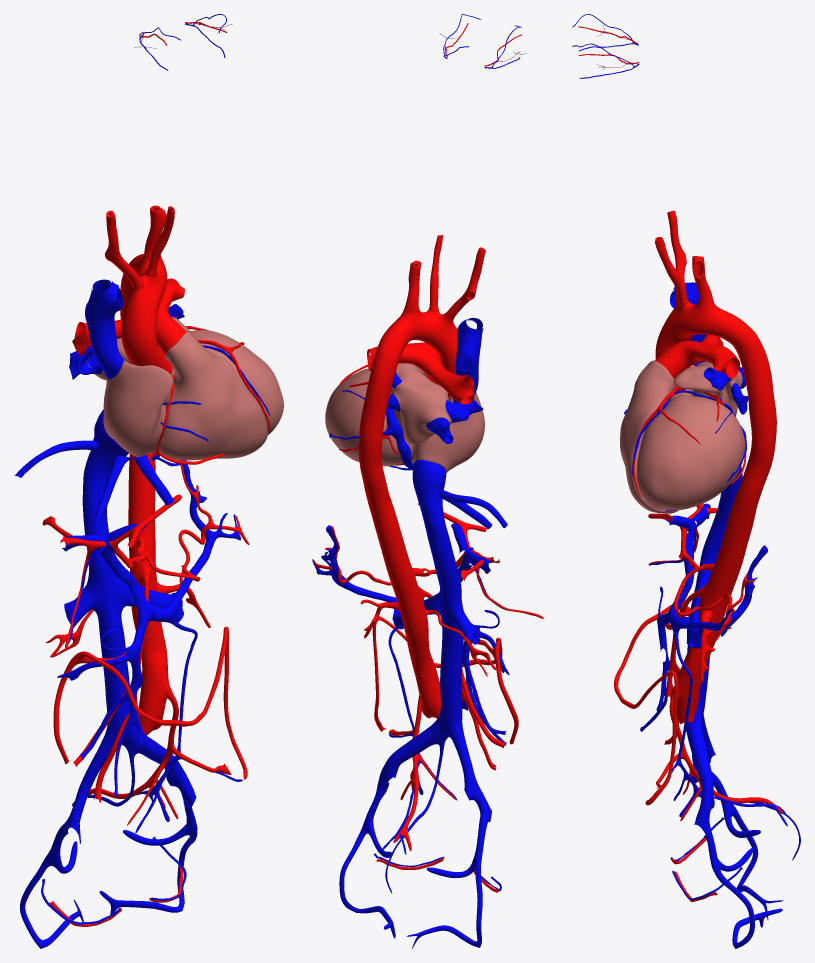
The model's file is female_circulatory.glb.
The picture shows the model from 3 angles, left to right: view 1: azimuth 30°, elevation 25°; view 2: azimuth 150°, elevation 25°; view 3: azimuth 270°, elevation 25°; orthographic projection. The views are drawn at different scales.
Parts seen in each view (by area): view 1: VH_F_right_ventricle, VH_F_inferior_vena_cava_b, VH_F_descending_aorta_b, VH_F_right_cardiac_atrium, VH_F_left_ventricle, VH_F_superior_vena_cava, VH_F_marginal_artery_of_Drummond, VH_F_ascending_aorta, VH_F_splenic_vein, VH_F_aortic_arch, VH_F_left_common_iliac_vein, VH_F_right_common_iliac_vein (+15 smaller); view 2: VH_F_descending_aorta_b, VH_F_inferior_vena_cava_b, VH_F_descending_aorta_a, VH_F_left_cardiac_atrium, VH_F_left_ventricle, VH_F_right_cardiac_atrium, VH_F_aortic_arch, VH_F_inferior_vena_cava_a, VH_F_left_common_iliac_vein, VH_F_superior_vena_cava, VH_F_marginal_artery_of_Drummond, VH_F_pulmonary_artery_R (+10 smaller); view 3: VH_F_left_ventricle, VH_F_descending_aorta_b, VH_F_descending_aorta_a, VH_F_right_ventricle, VH_F_aortic_arch, VH_F_inferior_vena_cava_b, VH_F_left_common_iliac_vein, VH_F_marginal_artery_of_Drummond, VH_F_splenic_vein, VH_F_left_cardiac_atrium, VH_F_pulmonary_artery_L, VH_F_splenic_artery (+9 smaller).
Part boxes in pixels (x1,y1,x2,y2): VH_F_right_ventricle: (154, 331, 267, 460); VH_F_inferior_vena_cava_b: (82, 459, 135, 745); VH_F_descending_aorta_b: (128, 452, 169, 735); VH_F_right_cardiac_atrium: (103, 359, 173, 456); VH_F_left_ventricle: (191, 330, 283, 435); VH_F_superior_vena_cava: (85, 279, 123, 379); VH_F_marginal_artery_of_Drummond: (53, 626, 247, 779); VH_F_ascending_aorta: (121, 309, 172, 374); VH_F_splenic_vein: (139, 460, 240, 623); VH_F_aortic_arch: (124, 254, 167, 312); VH_F_left_common_iliac_vein: (124, 726, 196, 808); VH_F_right_common_iliac_vein: (64, 729, 115, 836); VH_F_descending_aorta_b: (369, 499, 440, 718); VH_F_inferior_vena_cava_b: (422, 512, 463, 738); VH_F_descending_aorta_a: (358, 344, 399, 510); VH_F_left_cardiac_atrium: (390, 363, 452, 445); VH_F_left_ventricle: (325, 368, 407, 466); VH_F_right_cardiac_atrium: (408, 392, 484, 472); VH_F_aortic_arch: (379, 309, 457, 357); VH_F_inferior_vena_cava_a: (412, 459, 446, 513); VH_F_left_common_iliac_vein: (374, 718, 443, 798); VH_F_superior_vena_cava: (453, 318, 483, 402); VH_F_marginal_artery_of_Drummond: (372, 616, 518, 744); VH_F_pulmonary_artery_R: (423, 354, 474, 404); VH_F_left_ventricle: (636, 395, 745, 510); VH_F_descending_aorta_b: (676, 493, 758, 723); VH_F_descending_aorta_a: (731, 329, 776, 504); VH_F_right_ventricle: (620, 360, 678, 513); VH_F_aortic_arch: (665, 301, 751, 343); VH_F_inferior_vena_cava_b: (687, 475, 742, 719); VH_F_left_common_iliac_vein: (686, 712, 714, 835); VH_F_marginal_artery_of_Drummond: (614, 603, 690, 805); VH_F_splenic_vein: (668, 546, 767, 636); VH_F_left_cardiac_atrium: (674, 361, 742, 415); VH_F_pulmonary_artery_L: (684, 341, 740, 378); VH_F_splenic_artery: (673, 545, 765, 641).
Bounding box in the file's own units: 0.1971 × 0.7992 × 0.1849.
